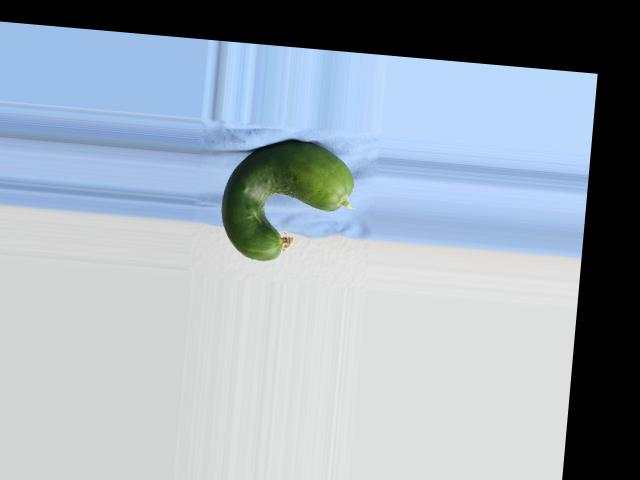cucumber: (217, 134, 357, 268)
